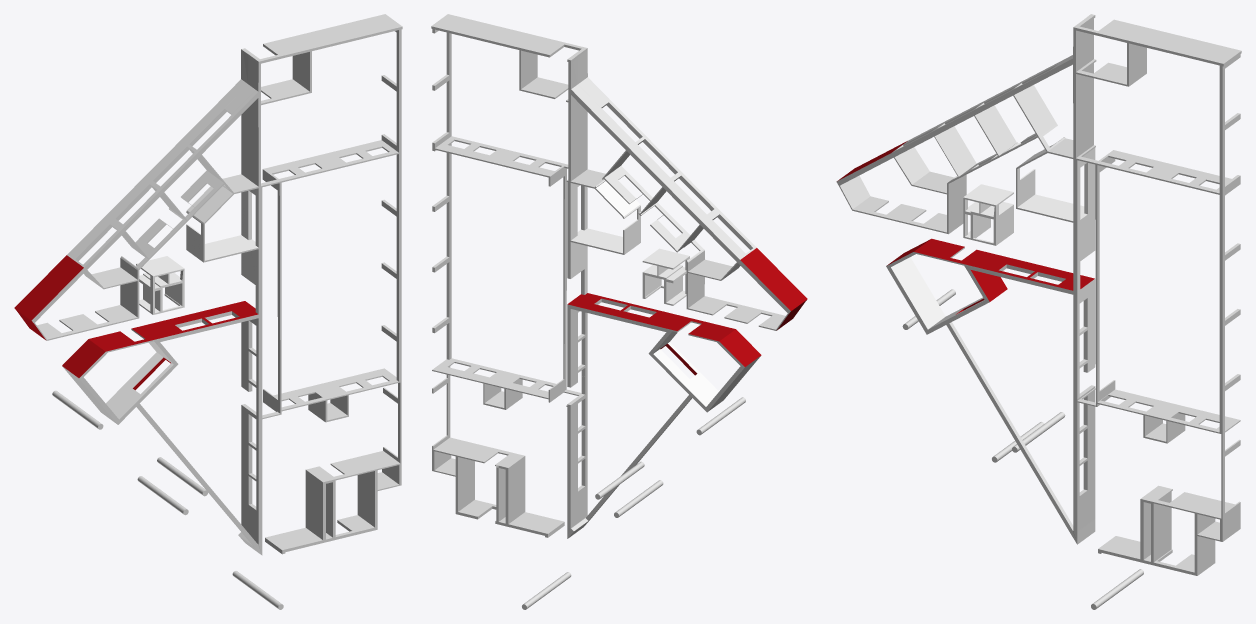
Rendered from ff_walls.obj.
3 views of the same model, side by side, from view 1: azimuth 30°, elevation 25°; view 2: azimuth 150°, elevation 25°; view 3: azimuth 330°, elevation 25° (orthographic). The views are drawn at different scales.
Parts seen in each view (by area): view 1: ff_walls_Cube.171; view 2: ff_walls_Cube.171; view 3: ff_walls_Cube.171.
Boxes of the visible parts, x1=… form: ff_walls_Cube.171: x1=14, y1=14, x2=402, y2=609; ff_walls_Cube.171: x1=431, y1=14, x2=807, y2=609; ff_walls_Cube.171: x1=836, y1=14, x2=1241, y2=609.
Size of the model in its own units: 30.96 by 44.02 by 6.59.
1 material, 1 textured.
